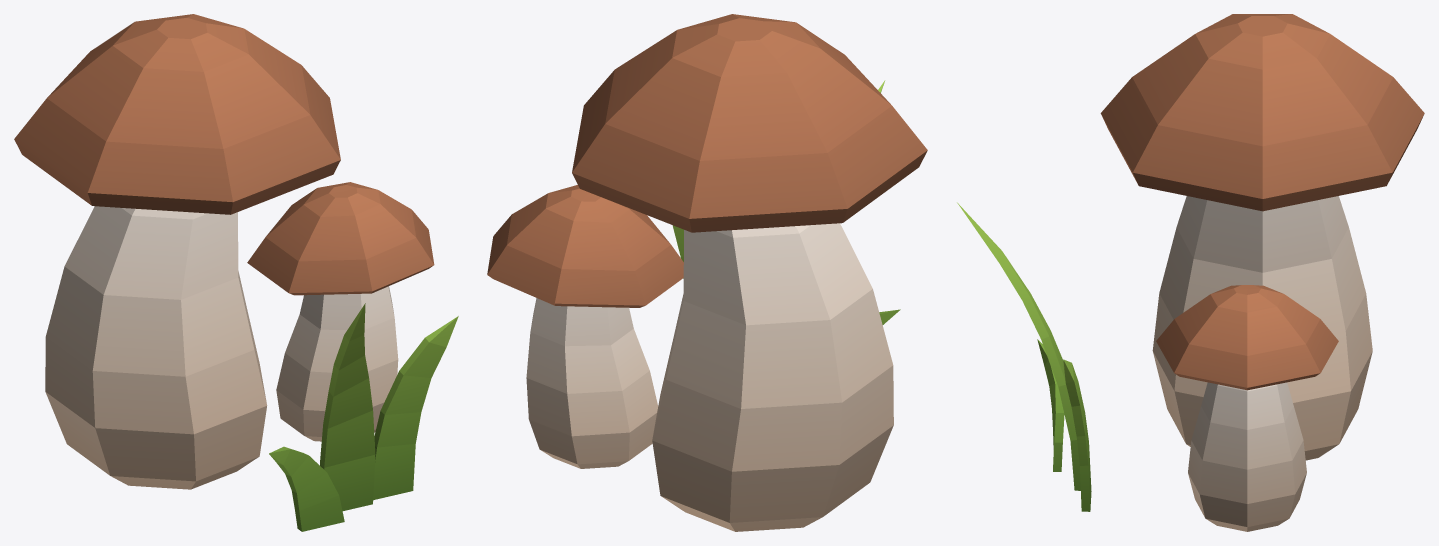
Rendered from mushroom brown 2.fbx.
3 renders of one model, left to right at view 1: azimuth 30°, elevation 25°; view 2: azimuth 150°, elevation 25°; view 3: azimuth 270°, elevation 25°, orthographic. The views are drawn at different scales.
Visible parts, largest first — view 1: mushroom brown 2; view 2: mushroom brown 2; view 3: mushroom brown 2.
Boxes of the visible parts, <box> form: mushroom brown 2: <box>14,14,458,531</box>; mushroom brown 2: <box>487,14,927,531</box>; mushroom brown 2: <box>957,14,1424,531</box>.
Bounding box in the file's own units: 45.9 × 50.76 × 51.33.
